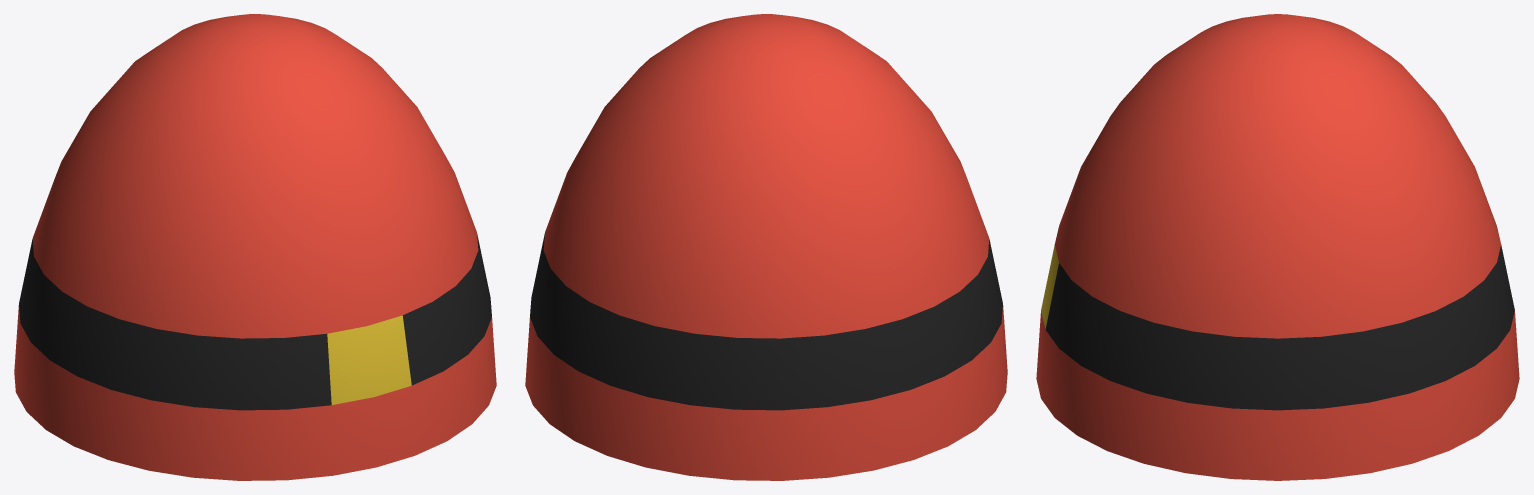
File: santa_huku.glb
3 renders of one model, left to right at view 1: azimuth 30°, elevation 25°; view 2: azimuth 150°, elevation 25°; view 3: azimuth 270°, elevation 25°, orthographic.
Visible parts, largest first — view 1: body.001; view 2: body.001; view 3: body.001.
Boxes of the visible parts, left/top/right/bottom form: body.001: left=14, top=14, right=496, bottom=480; body.001: left=525, top=14, right=1007, bottom=480; body.001: left=1036, top=14, right=1519, bottom=480.
Size of the model in its own units: 1.93 by 1.55 by 1.93.
